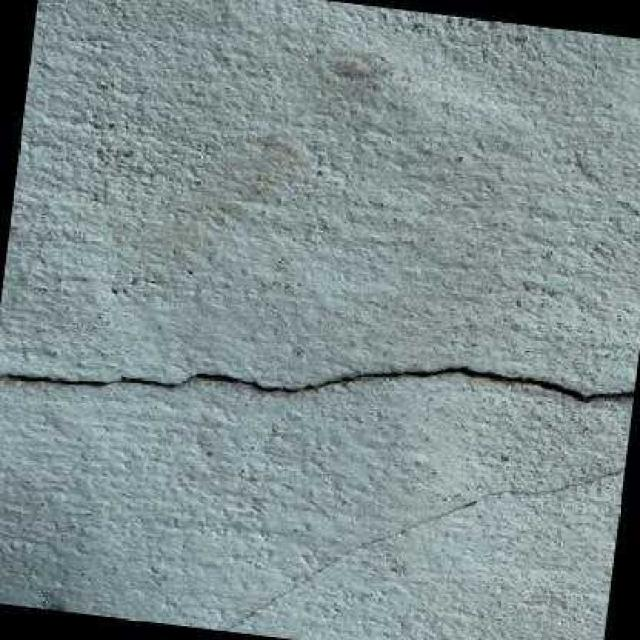D00: (0, 365, 634, 400)
